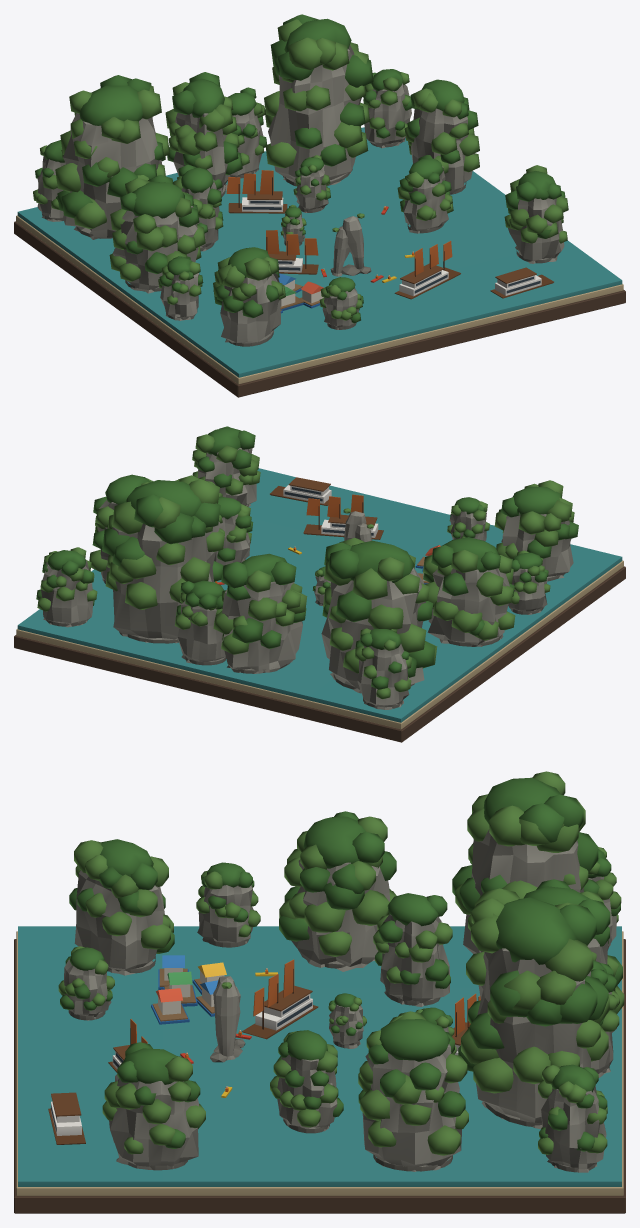
File: vinh-ha-long.glb
The picture shows the model from 3 angles, top to bottom: view 1: azimuth 30°, elevation 25°; view 2: azimuth 150°, elevation 25°; view 3: azimuth 270°, elevation 25°; orthographic projection. The views are drawn at different scales.
Visible parts, largest first — view 1: HL_boats_deck; view 2: HL_boats_deck; view 3: HL_boats_deck.
Part boxes in pixels (x1=…): HL_boats_deck: x1=14, y1=14, x2=625, y2=397; HL_boats_deck: x1=14, y1=426, x2=625, y2=742; HL_boats_deck: x1=14, y1=771, x2=625, y2=1213.
Bounding box in the file's own units: 93.1 × 38.44 × 92.
Materials: 1 (1 with a texture image).
